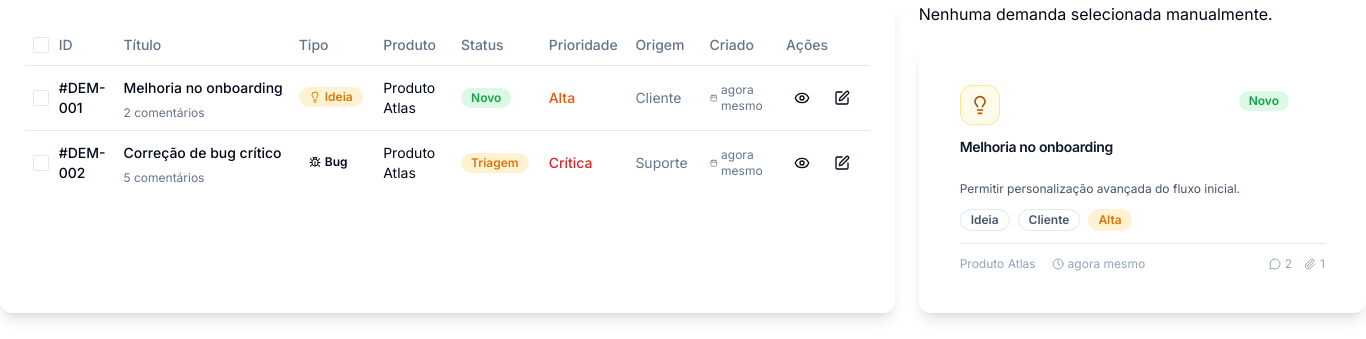
Test case: Demandas page integration › permite navegar entre demandas e reflete seleção no card detalhado
The width and height of the screenshot is (1366, 339).
Expected: the element with test id "detalhe-demanda" shows "Melhoria no onboarding", [960,138,1113,155]
Expected: the element with test id "detalhe-demanda" shows "Permitir personalização avançada do fluxo inicial.", [960,181,1240,196]
Click the text "#DEM-002" at (83, 162), box [51,130,116,194]
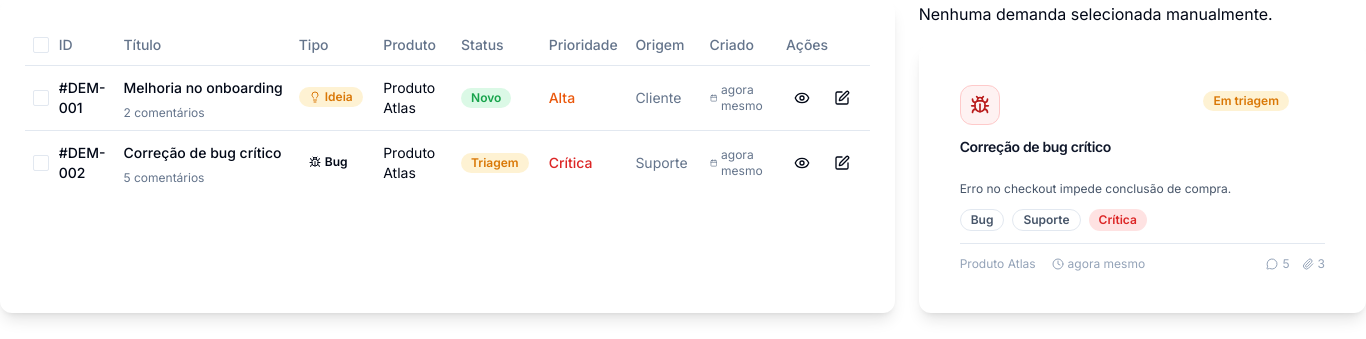
Expected: the element with test id "detalhe-demanda" shows "Correção de bug crítico", [960,138,1111,155]
Expected: the element with test id "detalhe-demanda" shows "Erro no checkout impede conclusão de compra.", [960,181,1231,196]
